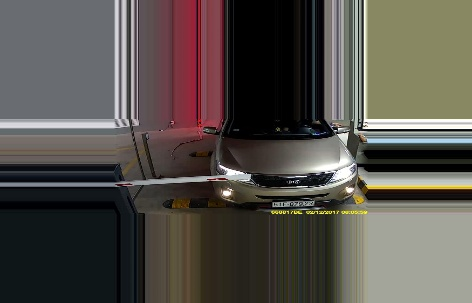plate: (268, 198, 315, 207)
